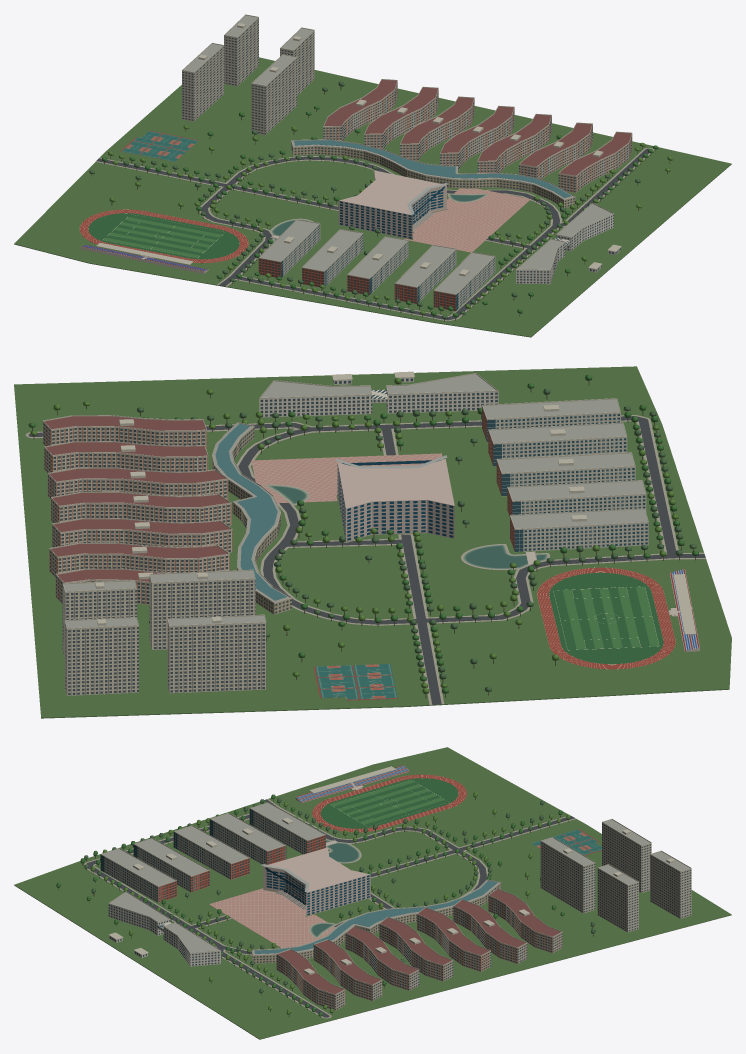
File: HenanCampus.glb
3 renders of one model, top to bottom at view 1: azimuth 30°, elevation 25°; view 2: azimuth 150°, elevation 25°; view 3: azimuth 270°, elevation 25°, orthographic. The views are drawn at different scales.
Parts seen in each view (by area): view 1: Campus_ground, B13_library, Library_south_plaza, Campus_roads, Campus_walkways, B12_arcade, B04_tower, B03_tower, Trees_estimated_2, B07_dorm, B05_dorm, B06_dorm (+26 smaller); view 2: Campus_ground, Campus_roads, B03_tower, B13_library, B01_tower, B04_tower, Campus_walkways, B08_dorm, B06_dorm, B15_teaching, B07_dorm, B09_dorm (+44 smaller); view 3: Campus_ground, B13_library, Library_south_plaza, B04_tower, Campus_roads, Campus_walkways, B03_tower, B02_tower, B01_tower, B05_dorm, B09_dorm, B06_dorm (+29 smaller).
Boxes of the visible parts, x1,y1,x2,y2 form: Campus_ground: [14, 57, 731, 337]; B13_library: [338, 170, 446, 239]; Library_south_plaza: [404, 188, 530, 252]; Campus_roads: [96, 148, 649, 320]; Campus_walkways: [95, 147, 653, 321]; B12_arcade: [291, 141, 575, 207]; B04_tower: [251, 55, 297, 134]; B03_tower: [182, 43, 223, 121]; Trees_estimated_2: [89, 81, 640, 319]; B07_dorm: [400, 97, 474, 160]; B05_dorm: [323, 80, 397, 140]; B06_dorm: [364, 87, 438, 149]; Campus_ground: [14, 366, 731, 718]; Campus_roads: [28, 416, 705, 704]; B03_tower: [167, 616, 266, 693]; B13_library: [337, 459, 454, 541]; B01_tower: [64, 618, 138, 695]; B04_tower: [149, 571, 255, 649]; Campus_walkways: [25, 415, 705, 704]; B08_dorm: [51, 493, 231, 526]; B06_dorm: [49, 543, 229, 577]; B15_teaching: [510, 509, 648, 551]; B07_dorm: [52, 519, 232, 552]; B09_dorm: [47, 468, 228, 499]; Campus_ground: [14, 747, 731, 1039]; B13_library: [263, 847, 370, 916]; Library_south_plaza: [209, 888, 335, 947]; B04_tower: [540, 838, 595, 913]; Campus_roads: [86, 799, 574, 1017]; Campus_walkways: [84, 799, 576, 1018]; B03_tower: [602, 819, 651, 892]; B02_tower: [597, 865, 638, 932]; B01_tower: [650, 851, 691, 918]; B05_dorm: [488, 889, 562, 953]; B09_dorm: [345, 927, 419, 990]; B06_dorm: [453, 900, 527, 963].
Bounding box in the file's own units: 722 × 57.24 × 750.
40 materials, 10 textured.
